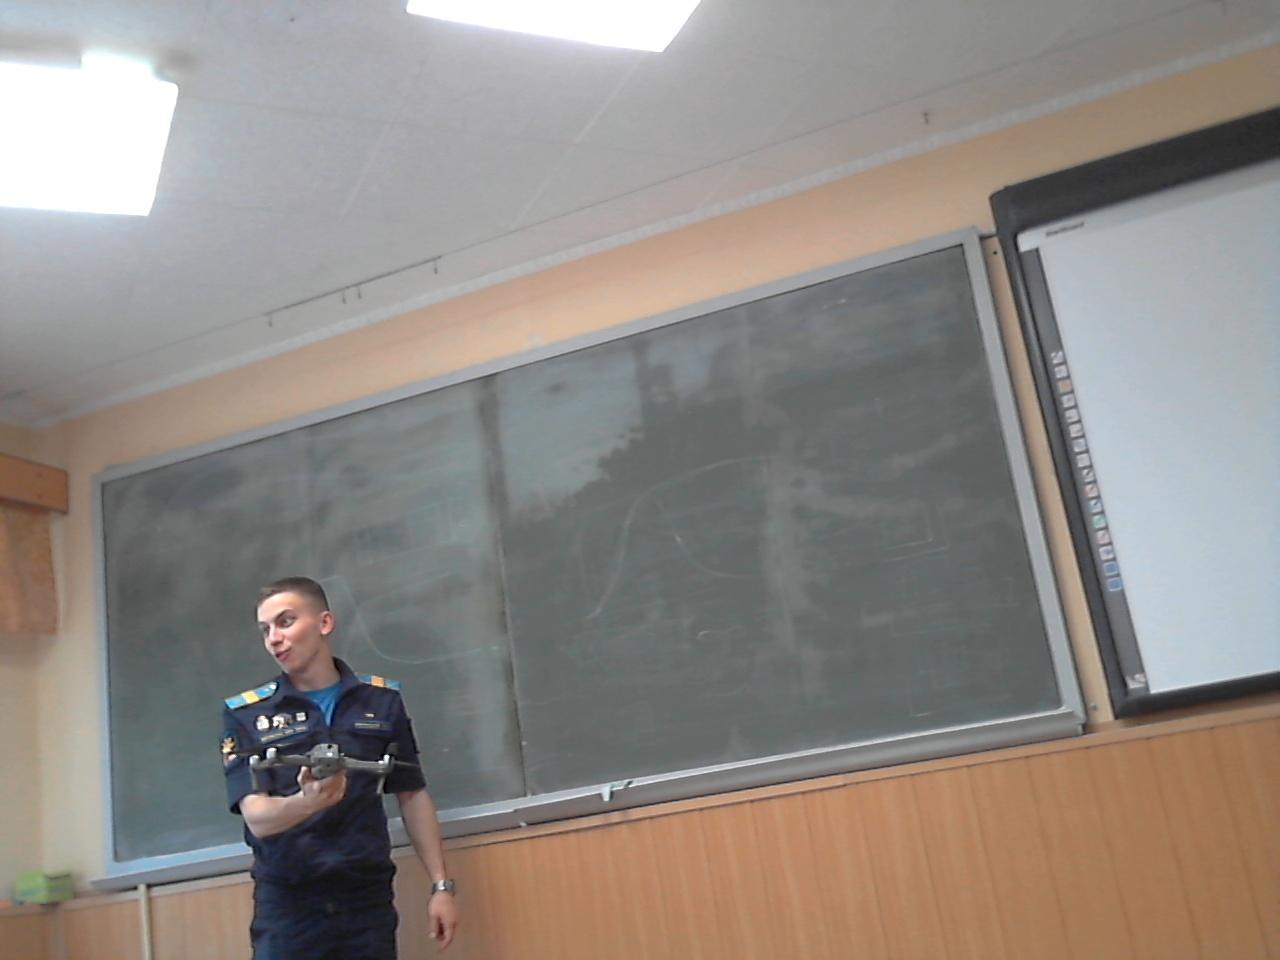drone: (214, 712, 419, 797)
